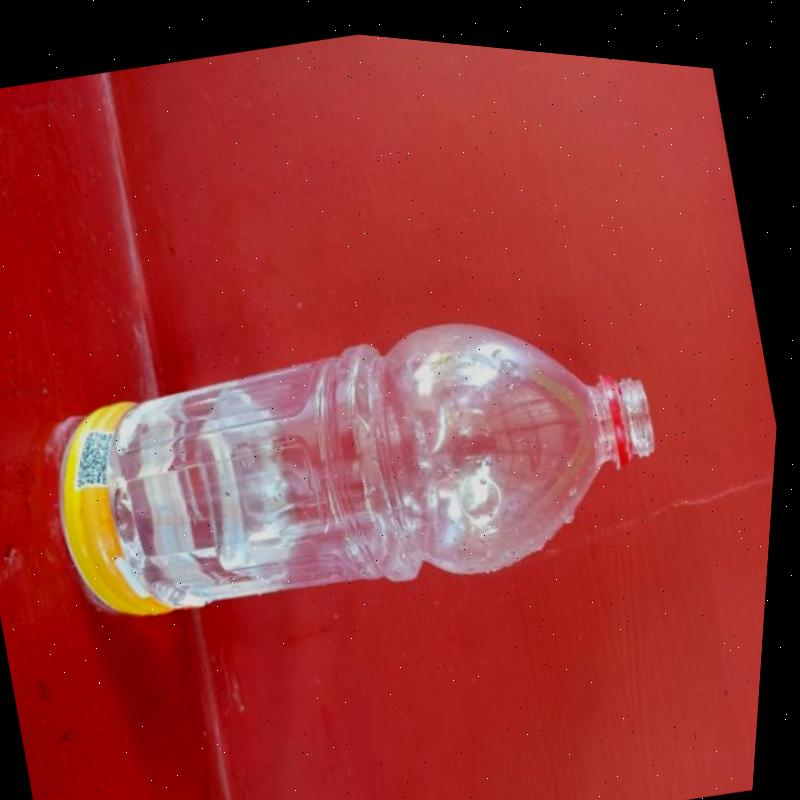botella: (31, 238, 699, 672)
